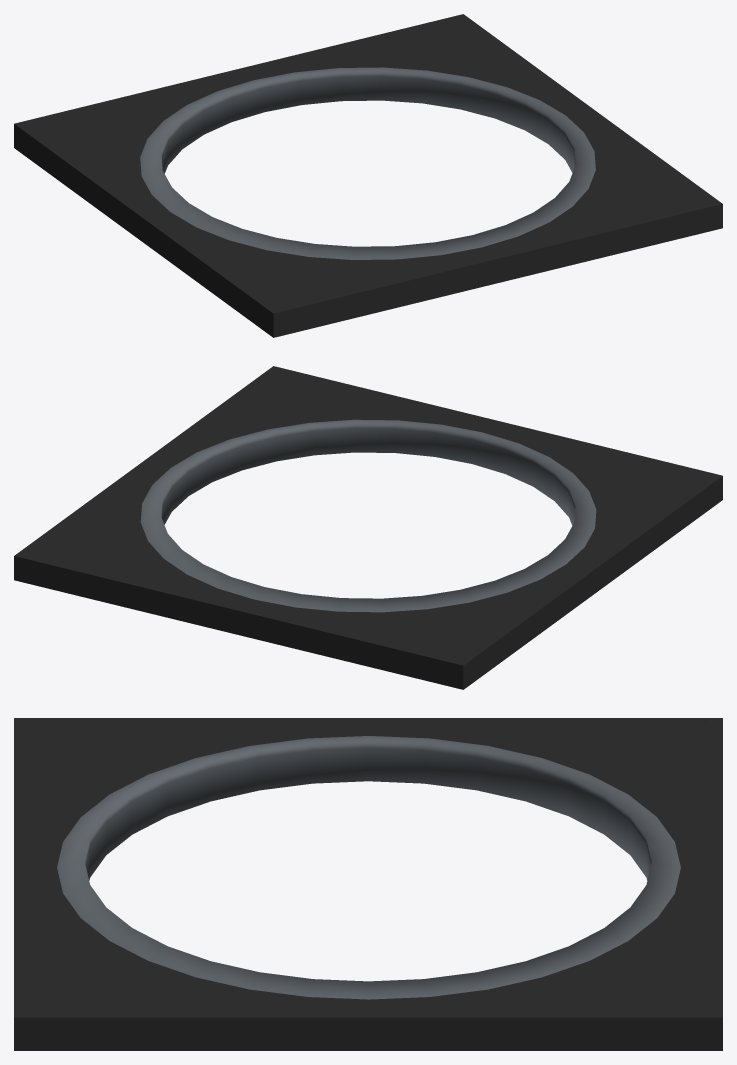
File: SlotBigHole.fbx
3 views of the same model, one above another, from view 1: azimuth 30°, elevation 25°; view 2: azimuth 150°, elevation 25°; view 3: azimuth 270°, elevation 25° (orthographic). The views are drawn at different scales.
Parts seen in each view (by area): view 1: ThoracoscopicBigHoleSlot; view 2: ThoracoscopicBigHoleSlot; view 3: ThoracoscopicBigHoleSlot.
Part boxes in pixels (bbox=[...]): ThoracoscopicBigHoleSlot: bbox=[14, 14, 722, 337]; ThoracoscopicBigHoleSlot: bbox=[14, 366, 722, 689]; ThoracoscopicBigHoleSlot: bbox=[14, 718, 722, 1050].
Size of the model in its own units: 0.1 by 0.00617 by 0.1.
